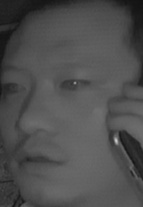eye: (57, 74, 92, 96), (3, 77, 29, 97)
mouth: (14, 141, 71, 180)
